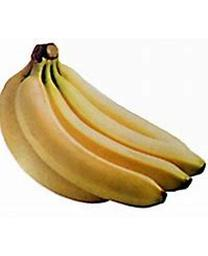banana: (0, 42, 205, 205)
